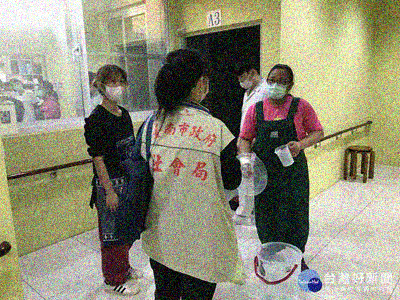mask_weared_incorrect: (237, 73, 255, 89)
with_mask: (101, 76, 128, 101), (267, 74, 290, 99), (195, 70, 210, 103), (1, 87, 14, 99), (37, 87, 48, 100), (13, 82, 25, 92)
